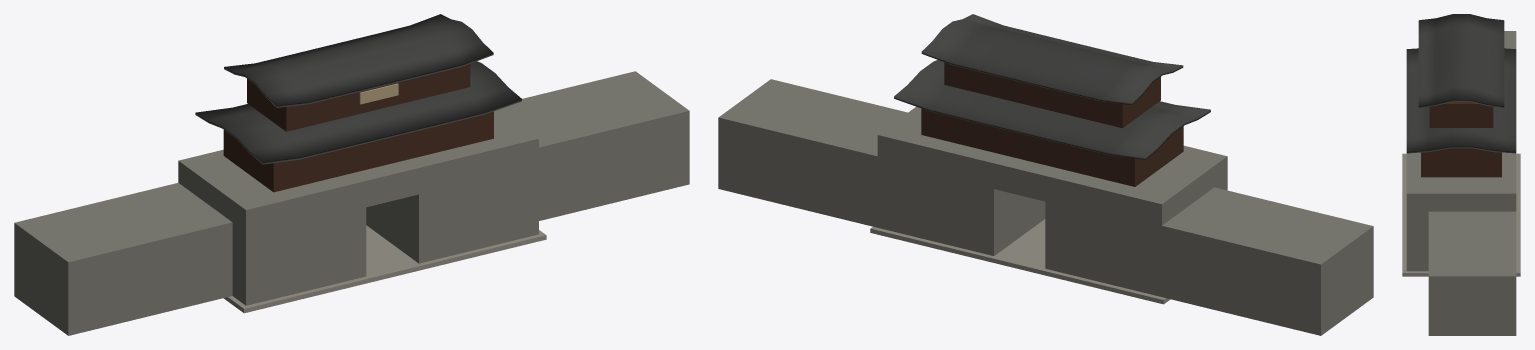
The model's file is SM_Zhengximen_LOD4.fbx.
The picture shows the model from 3 angles, left to right: view 1: azimuth 30°, elevation 25°; view 2: azimuth 150°, elevation 25°; view 3: azimuth 270°, elevation 25°; orthographic projection. The views are drawn at different scales.
Visible parts, largest first — view 1: SM_Zhengximen_LOD4_GrayBrick, SM_Zhengximen_LOD4_ClayRoofTile, SM_Zhengximen_LOD4_DarkTimber, SM_Zhengximen_LOD4_StoneFoundation, SM_Zhengximen_LOD4_GatePlaque; view 2: SM_Zhengximen_LOD4_GrayBrick, SM_Zhengximen_LOD4_ClayRoofTile, SM_Zhengximen_LOD4_DarkTimber, SM_Zhengximen_LOD4_StoneFoundation; view 3: SM_Zhengximen_LOD4_GrayBrick, SM_Zhengximen_LOD4_ClayRoofTile, SM_Zhengximen_LOD4_DarkTimber, SM_Zhengximen_LOD4_StoneFoundation.
Boxes of the visible parts, x1=… form: SM_Zhengximen_LOD4_GrayBrick: x1=14, y1=71, x2=689, y2=335; SM_Zhengximen_LOD4_ClayRoofTile: x1=195, y1=14, x2=521, y2=164; SM_Zhengximen_LOD4_DarkTimber: x1=223, y1=64, x2=493, y2=192; SM_Zhengximen_LOD4_StoneFoundation: x1=223, y1=225, x2=546, y2=313; SM_Zhengximen_LOD4_GatePlaque: x1=359, y1=83, x2=398, y2=104; SM_Zhengximen_LOD4_GrayBrick: x1=718, y1=79, x2=1373, y2=335; SM_Zhengximen_LOD4_ClayRoofTile: x1=894, y1=14, x2=1210, y2=159; SM_Zhengximen_LOD4_DarkTimber: x1=921, y1=62, x2=1183, y2=186; SM_Zhengximen_LOD4_StoneFoundation: x1=870, y1=219, x2=1170, y2=304; SM_Zhengximen_LOD4_GrayBrick: x1=1406, y1=31, x2=1516, y2=335; SM_Zhengximen_LOD4_ClayRoofTile: x1=1406, y1=14, x2=1516, y2=153; SM_Zhengximen_LOD4_DarkTimber: x1=1421, y1=101, x2=1501, y2=177; SM_Zhengximen_LOD4_StoneFoundation: x1=1402, y1=153, x2=1520, y2=276.
Bounding box in the file's own units: 5300 × 1080 × 1623.
